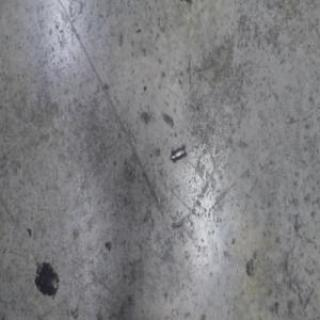Bolttrack_idkeyframe: (169, 142, 186, 162)
